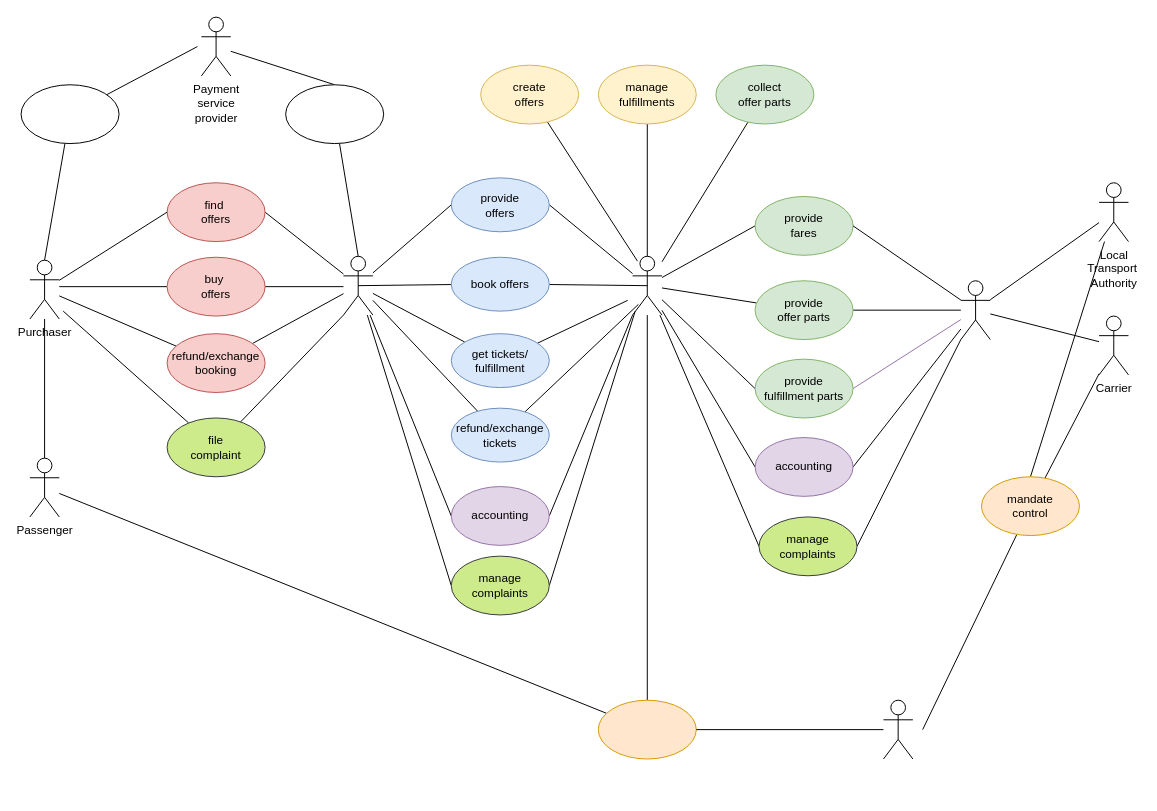
This 1157x811 diagram has some shape labels left out. Each missing label, with the centre of its shape:
control tickets (fulfillment): point (646, 729)
Distributor: point (647, 285)
Fare Provider: point (975, 310)
pay: point (69, 114)
reconciliate: point (334, 114)
Retailer: point (358, 285)
Ticket Control Organization: point (897, 729)
